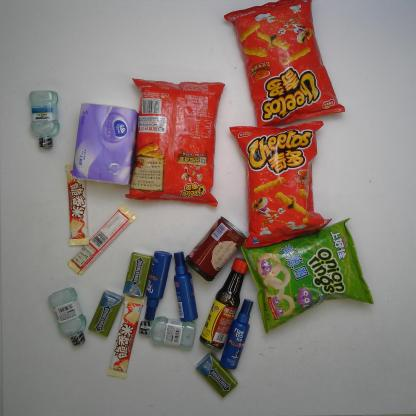Canned Food: (184, 214, 248, 283)
Chocolate: (67, 204, 137, 276), (106, 296, 145, 378), (64, 164, 91, 246)
Gum: (195, 352, 239, 398), (87, 288, 124, 338), (122, 250, 154, 298)
Personal Hygiene: (46, 286, 87, 346), (220, 298, 254, 370), (28, 88, 61, 150), (144, 249, 172, 322), (138, 316, 196, 350), (173, 250, 198, 322)
Puffed Food: (239, 216, 375, 336), (223, 0, 345, 128), (227, 119, 334, 250), (124, 77, 226, 209)
Seasoner: (198, 258, 249, 351)
Tissue: (70, 100, 138, 188)
